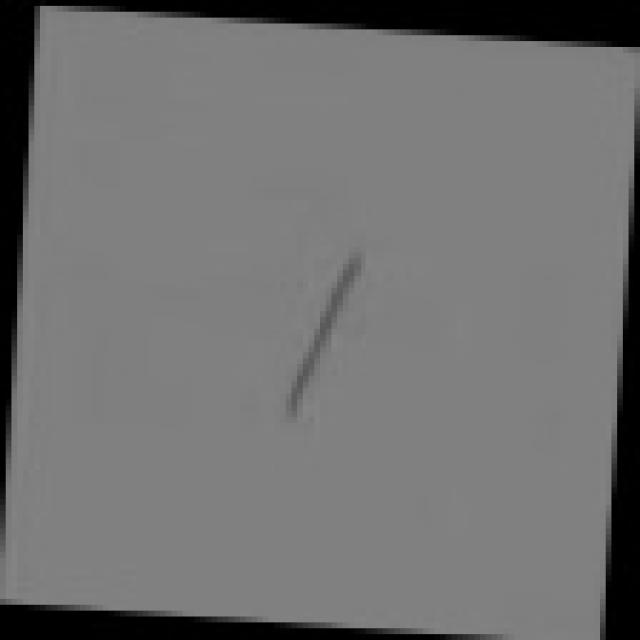Defect4: (250, 224, 388, 450)
